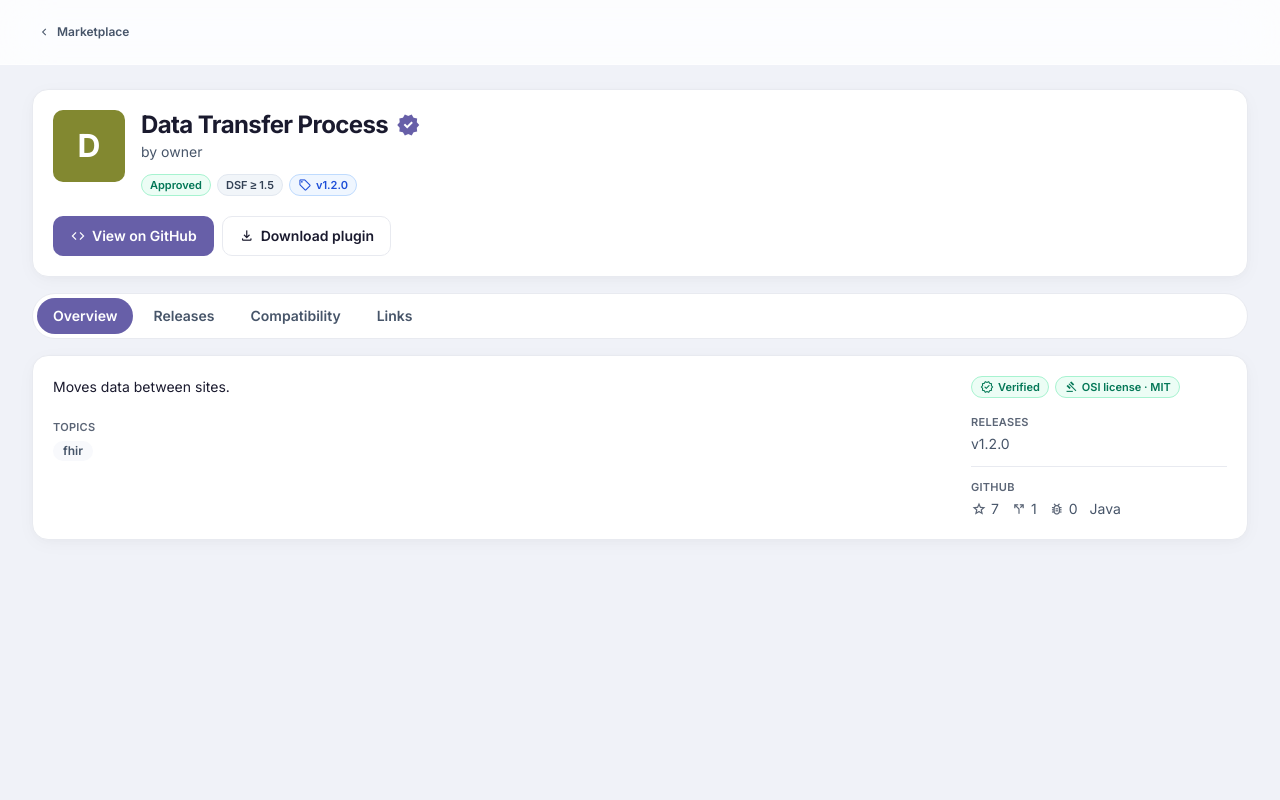
MarketplaceDetailPage › renders the header, compatibility and releases tabs
This screenshot has width=1280, height=800.
Check: the heading "Data Transfer Process" is shown, box [141,110,388,140]
Note: DSF-metadata panel
Click the tab "Compatibility" at (296, 316), box [234,298,357,334]
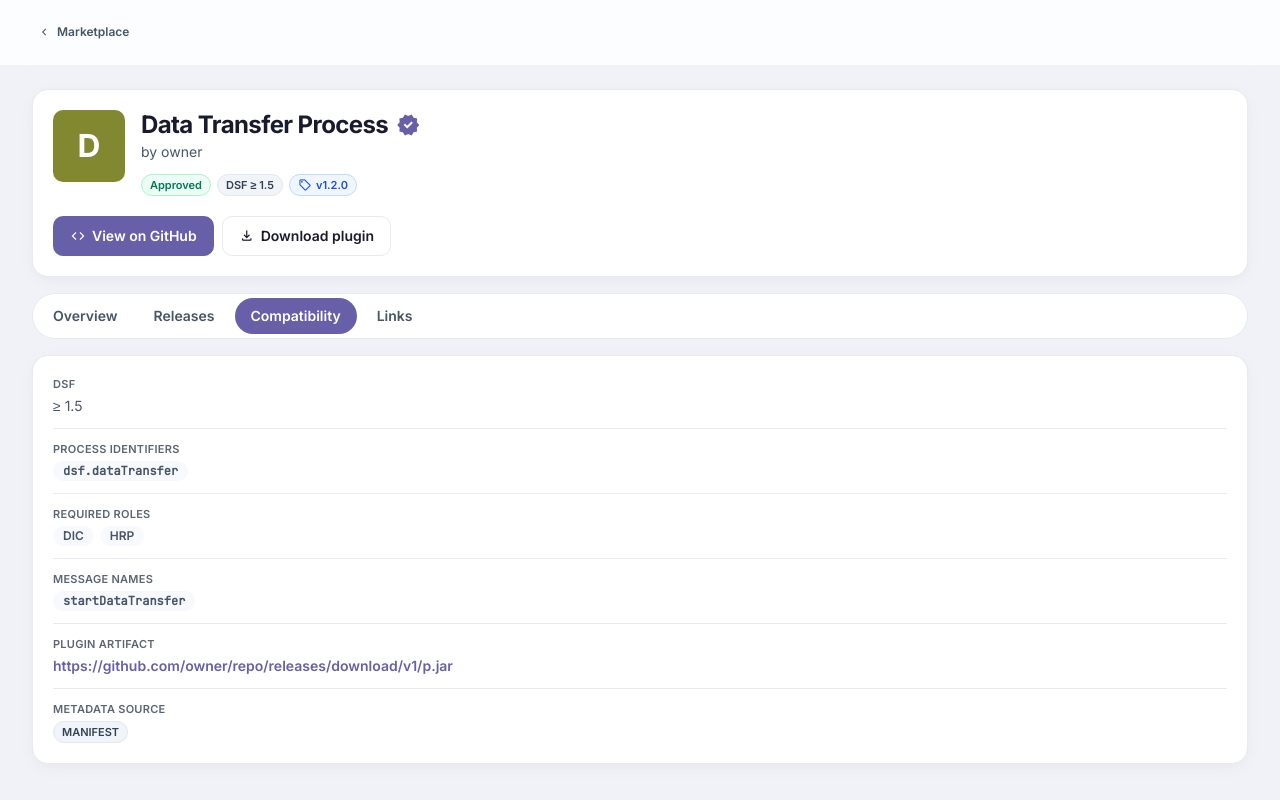
Check: the text "dsf.dataTransfer" is shown, box [53,461,188,481]
Check: the text "startDataTransfer" is shown, box [53,591,195,611]
Check: the text "DIC" is shown, box [53,526,94,546]
Note: Releases timeline
Click the tab "Releases" at (184, 316), box [138,298,230,334]
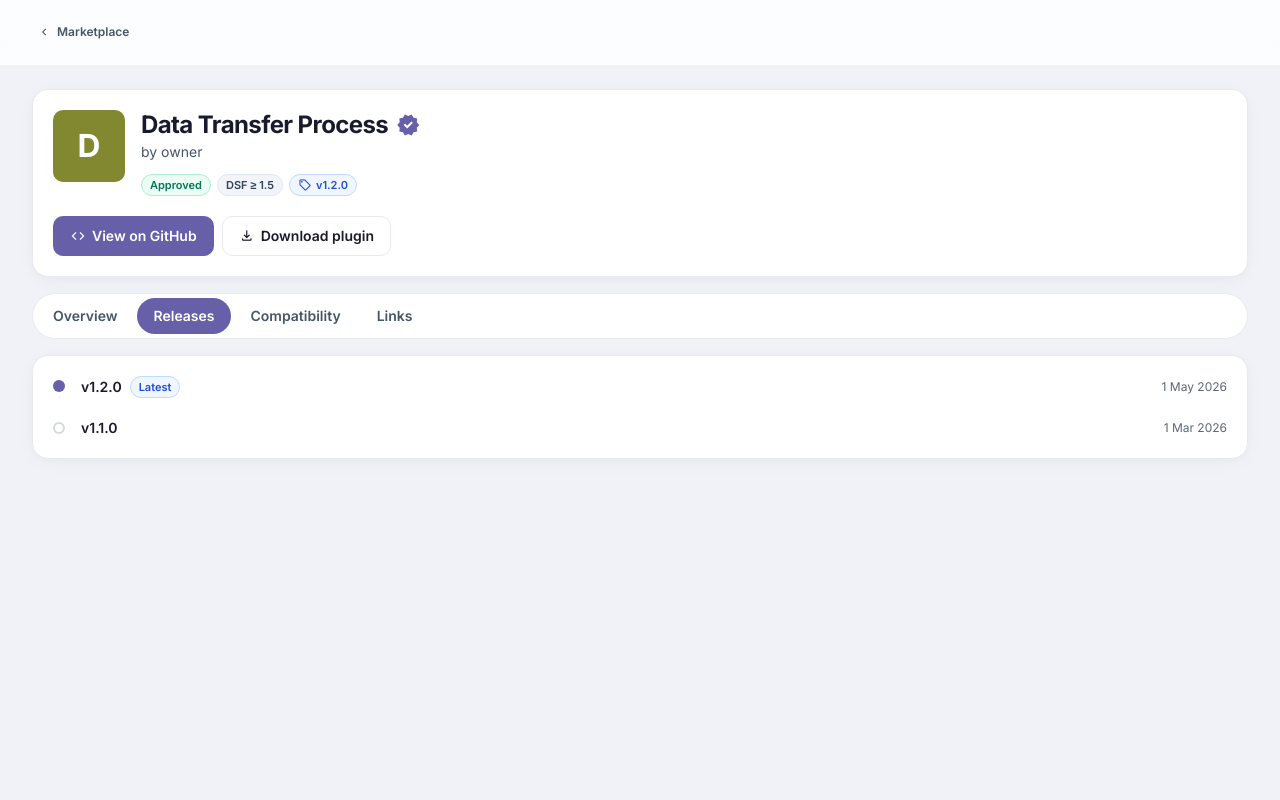
Check: the text "v1.2.0" is shown, box [289,174,357,196]
Check: the text "v1.1.0" is shown, box [81,418,118,438]
Check: the text "Latest" is shown, box [130,376,180,398]
